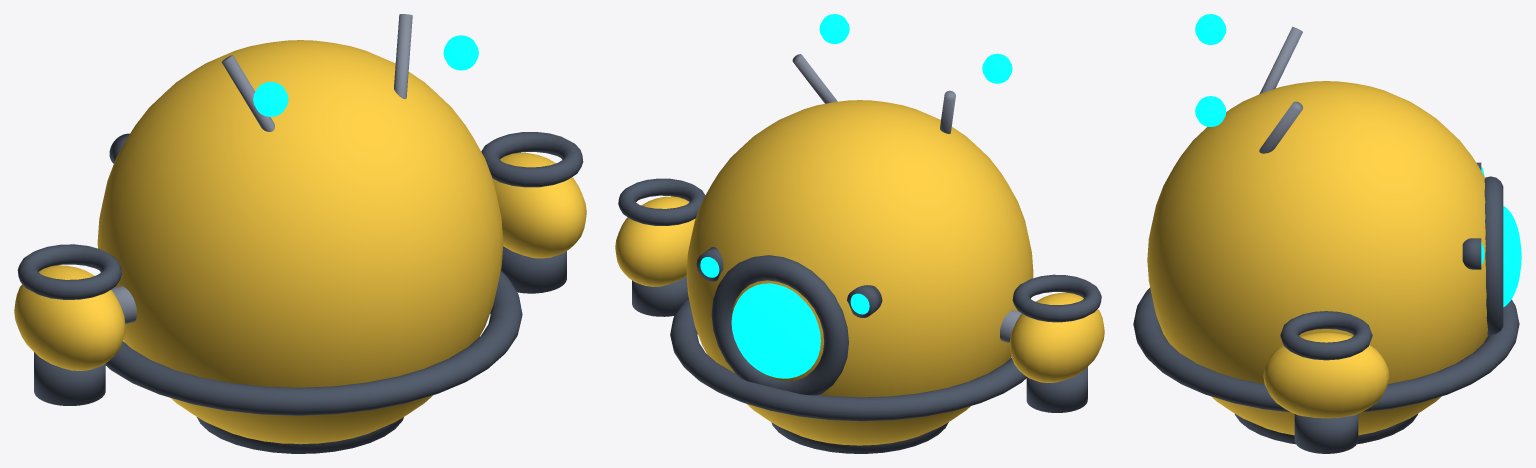
File: enemy-scout.glb
The picture shows the model from 3 angles, left to right: view 1: azimuth 30°, elevation 25°; view 2: azimuth 150°, elevation 25°; view 3: azimuth 270°, elevation 25°; orthographic projection. The views are drawn at different scales.
Parts seen in each view (by area): view 1: Scout_SphericalBody, Scout_BumperRing, Scout_ThrusterPod_L, Scout_ThrusterPod_R, Scout_ThrusterCowl_L, Scout_ThrusterCowl_R, Scout_Nozzle_L, Scout_Nozzle_R, Scout_Belly, Scout_Antenna_R, Scout_Antenna_L, Scout_AntTip_R (+1 smaller); view 2: Scout_SphericalBody, Scout_BumperRing, Scout_EyeRim, Scout_EyeOuter, Scout_ThrusterPod_L, Scout_ThrusterPod_R, Scout_ThrusterCowl_L, Scout_ThrusterCowl_R, Scout_Nozzle_L, Scout_Nozzle_R, Scout_Belly, Scout_AntTip_L (+4 smaller); view 3: Scout_SphericalBody, Scout_BumperRing, Scout_ThrusterPod_R, Scout_ThrusterCowl_R, Scout_EyeRim, Scout_Nozzle_R, Scout_EyeOuter, Scout_Belly, Scout_Antenna_L, Scout_AntTip_L, Scout_AntTip_R, Scout_Antenna_R (+1 smaller).
Boxes of the visible parts, left/top/right/bottom form: Scout_SphericalBody: left=97, top=40, right=503, bottom=444; Scout_BumperRing: left=105, top=271, right=522, bottom=415; Scout_ThrusterPod_L: left=14, top=265, right=125, bottom=370; Scout_ThrusterPod_R: left=493, top=152, right=586, bottom=258; Scout_ThrusterCowl_L: left=17, top=244, right=121, bottom=299; Scout_ThrusterCowl_R: left=481, top=132, right=583, bottom=187; Scout_Nozzle_L: left=34, top=352, right=105, bottom=405; Scout_Nozzle_R: left=501, top=246, right=566, bottom=293; Scout_Belly: left=197, top=417, right=403, bottom=453; Scout_Antenna_R: left=394, top=14, right=412, bottom=98; Scout_Antenna_L: left=221, top=55, right=274, bottom=131; Scout_AntTip_R: left=443, top=35, right=478, bottom=70; Scout_SphericalBody: left=686, top=100, right=1033, bottom=445; Scout_BumperRing: left=670, top=297, right=1026, bottom=421; Scout_EyeRim: left=711, top=255, right=848, bottom=395; Scout_EyeOuter: left=731, top=283, right=820, bottom=378; Scout_ThrusterPod_L: left=1009, top=292, right=1104, bottom=382; Scout_ThrusterPod_R: left=615, top=196, right=695, bottom=286; Scout_ThrusterCowl_L: left=1012, top=274, right=1101, bottom=322; Scout_ThrusterCowl_R: left=618, top=178, right=705, bottom=225; Scout_Nozzle_L: left=1026, top=367, right=1087, bottom=412; Scout_Nozzle_R: left=632, top=276, right=688, bottom=316; Scout_Belly: left=771, top=422, right=948, bottom=453; Scout_AntTip_L: left=982, top=53, right=1012, bottom=83; Scout_SphericalBody: left=1147, top=81, right=1487, bottom=435; Scout_BumperRing: left=1133, top=288, right=1519, bottom=412; Scout_ThrusterPod_R: left=1263, top=332, right=1389, bottom=418; Scout_ThrusterCowl_R: left=1280, top=311, right=1372, bottom=360; Scout_EyeRim: left=1484, top=176, right=1503, bottom=335; Scout_Nozzle_R: left=1294, top=414, right=1358, bottom=453; Scout_EyeOuter: left=1503, top=206, right=1521, bottom=307; Scout_Belly: left=1235, top=414, right=1417, bottom=444; Scout_Antenna_L: left=1259, top=26, right=1302, bottom=94; Scout_AntTip_L: left=1195, top=14, right=1226, bottom=44; Scout_AntTip_R: left=1195, top=96, right=1226, bottom=126; Scout_Antenna_R: left=1259, top=101, right=1302, bottom=153.
Size of the model in its own units: 1.51 by 1.08 by 1.04.
